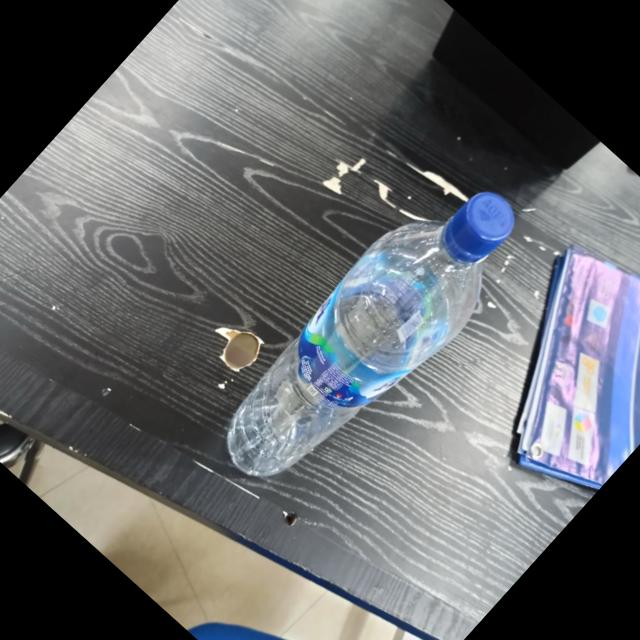BotolPlastik: (198, 151, 548, 518)
